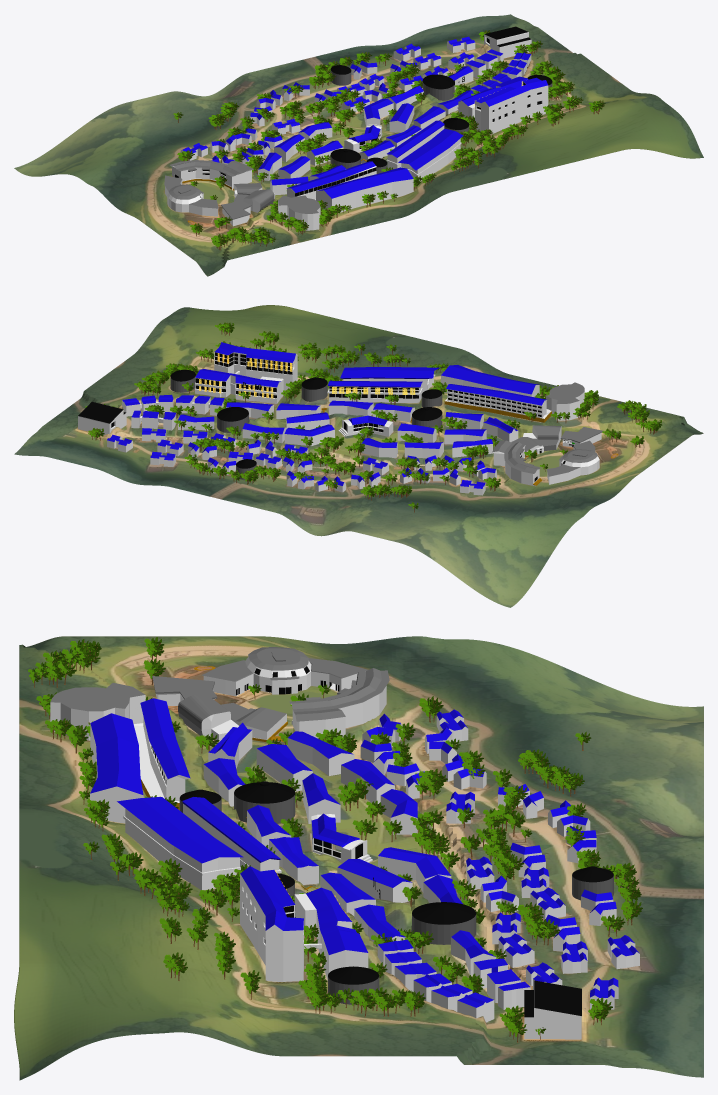
The model's file is campus.glb.
3 renders of one model, top to bottom at view 1: azimuth 30°, elevation 25°; view 2: azimuth 150°, elevation 25°; view 3: azimuth 270°, elevation 25°, orthographic. The views are drawn at different scales.
Parts seen in each view (by area): view 1: Dharti, A17+A18, A13 + A14, A11, Guest House, Auditorium, A10, A9, Peepal Mess, Plane, Oak Mess, Health Center (+11 smaller); view 2: Dharti, A17+A18, A13 + A14, A10, A11, Auditorium, Guest House, Peepal Mess, A9, Plane, B19, B8 (+18 smaller); view 3: Dharti, A17+A18, A13 + A14, Auditorium, A11, Guest House, A10, Plane, A9, Peepal Mess, Oak Mess, B26 (+28 smaller).
Part boxes in pixels (<box>): Dharti: <box>14,14,703,276</box>; A17+A18: <box>457,76,548,134</box>; A13 + A14: <box>386,120,463,181</box>; A11: <box>316,167,413,212</box>; Guest House: <box>170,160,253,189</box>; Auditorium: <box>164,175,218,216</box>; A10: <box>286,161,376,199</box>; A9: <box>278,195,320,230</box>; Peepal Mess: <box>484,26,531,58</box>; Plane: <box>233,183,274,212</box>; Oak Mess: <box>422,74,454,100</box>; Health Center: <box>221,200,251,226</box>; Dharti: <box>14,305,703,607</box>; A17+A18: <box>195,342,297,403</box>; A13 + A14: <box>327,367,440,402</box>; A10: <box>444,384,551,422</box>; A11: <box>441,365,539,397</box>; Auditorium: <box>546,440,599,484</box>; Guest House: <box>492,440,542,486</box>; Peepal Mess: <box>78,402,126,434</box>; A9: <box>546,382,584,420</box>; Plane: <box>511,425,561,457</box>; B19: <box>338,415,393,436</box>; B8: <box>284,424,334,445</box>; Dharti: <box>14,636,703,1080</box>; A17+A18: <box>240,866,368,981</box>; A13 + A14: <box>117,797,281,890</box>; Auditorium: <box>202,647,368,696</box>; A11: <box>90,713,143,823</box>; Guest House: <box>289,668,389,738</box>; A10: <box>133,698,190,809</box>; Plane: <box>178,695,287,742</box>; A9: <box>50,682,145,740</box>; Peepal Mess: <box>524,980,581,1039</box>; Oak Mess: <box>412,902,476,944</box>; B26: <box>413,973,494,1022</box>.
Size of the model in its own units: 627 by 92.85 by 425.
14 materials, 1 textured.
